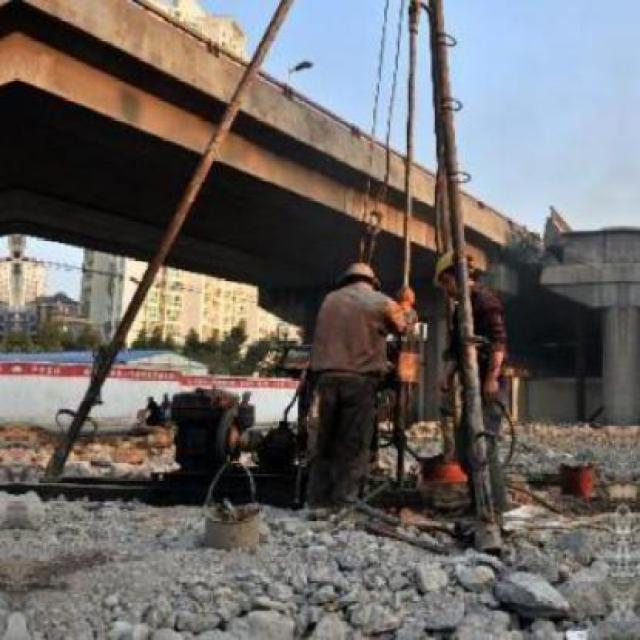helmet: (428, 244, 480, 294), (332, 261, 382, 299)
